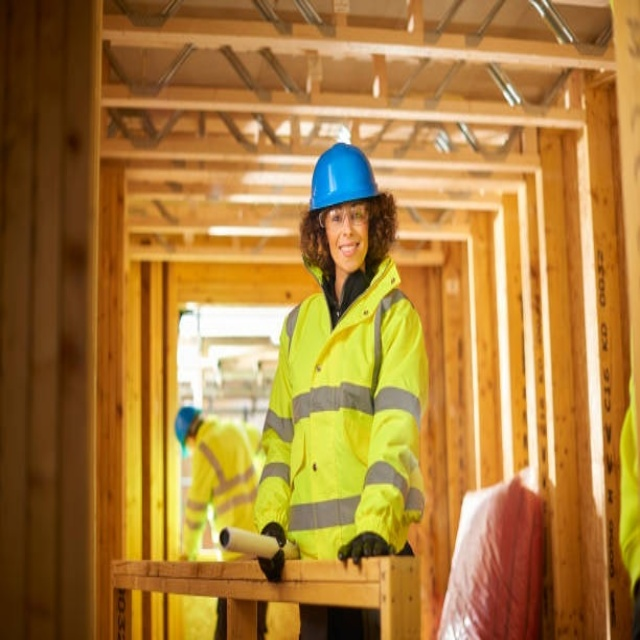Gafas: (322, 205, 372, 227)
Guantes: (338, 524, 387, 571)
Sin_mascara: (336, 237, 363, 265)
